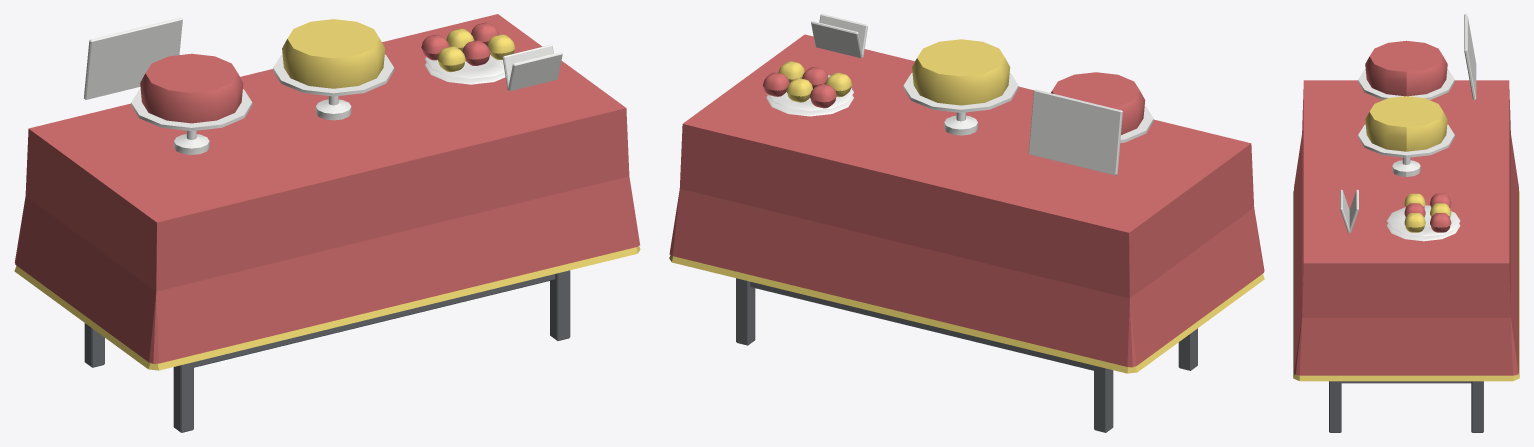
3 renders of one model, left to right at view 1: azimuth 30°, elevation 25°; view 2: azimuth 150°, elevation 25°; view 3: azimuth 270°, elevation 25°, orthographic. The views are drawn at different scales.
Visible parts, largest first — view 1: cake-stall-table; view 2: cake-stall-table; view 3: cake-stall-table.
Boxes of the visible parts, left/top/right/bottom form: cake-stall-table: left=14, top=14, right=640, bottom=432; cake-stall-table: left=669, top=14, right=1264, bottom=432; cake-stall-table: left=1293, top=14, right=1519, bottom=432.
Bounding box in the file's own units: 1.6 × 1.03 × 0.7959.
